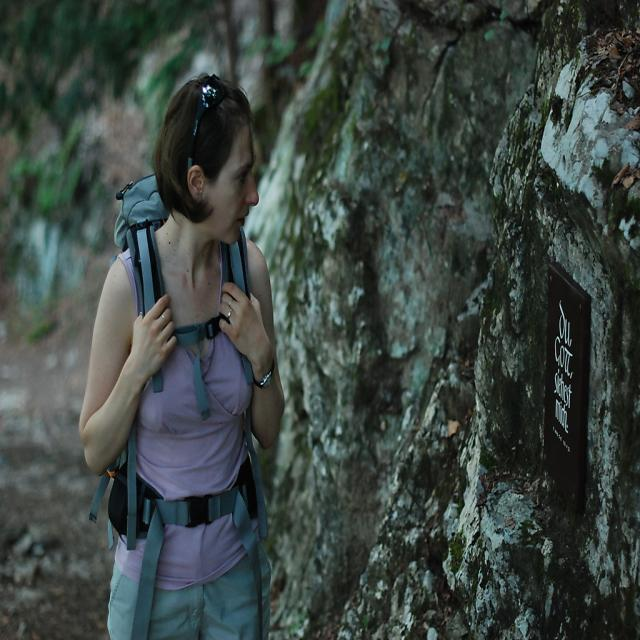backpack: (114, 172, 250, 531)
